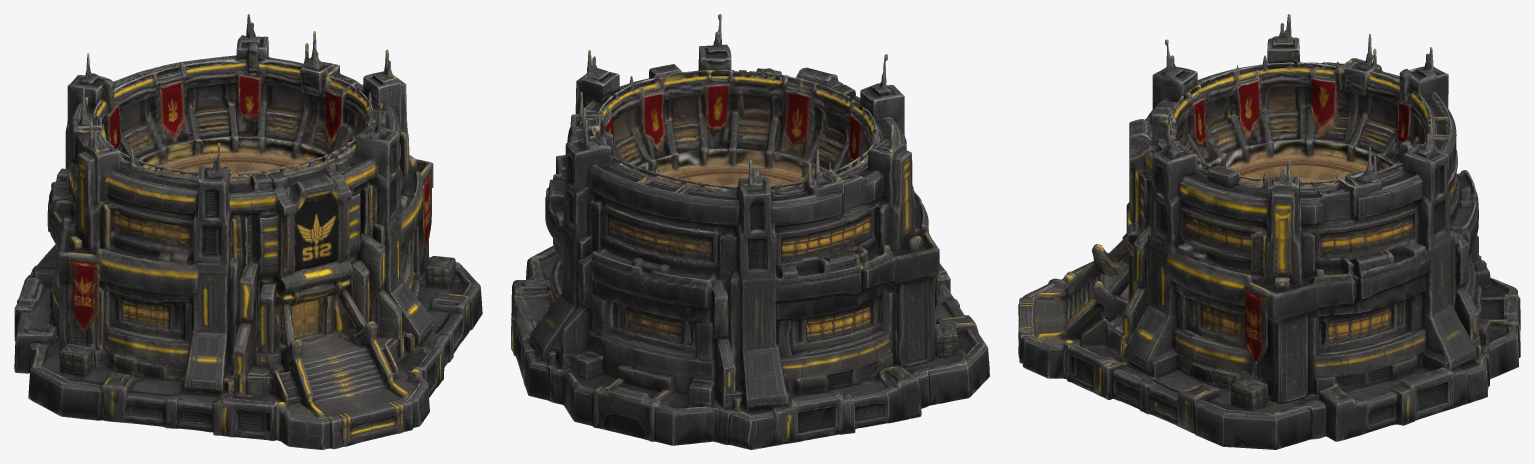
Rendered from s12Arena_LOD2.glb.
3 views of the same model, side by side, from view 1: azimuth 30°, elevation 25°; view 2: azimuth 150°, elevation 25°; view 3: azimuth 270°, elevation 25° (orthographic). The views are drawn at different scales.
Visible parts, largest first — view 1: Mesh_0.001; view 2: Mesh_0.001; view 3: Mesh_0.001.
Boxes of the visible parts, left/top/right/bottom form: Mesh_0.001: left=14, top=14, right=482, bottom=449; Mesh_0.001: left=511, top=14, right=989, bottom=449; Mesh_0.001: left=1018, top=14, right=1520, bottom=449.
Size of the model in its own units: 1.9 by 1.1 by 1.89.
1 material, 1 textured.
